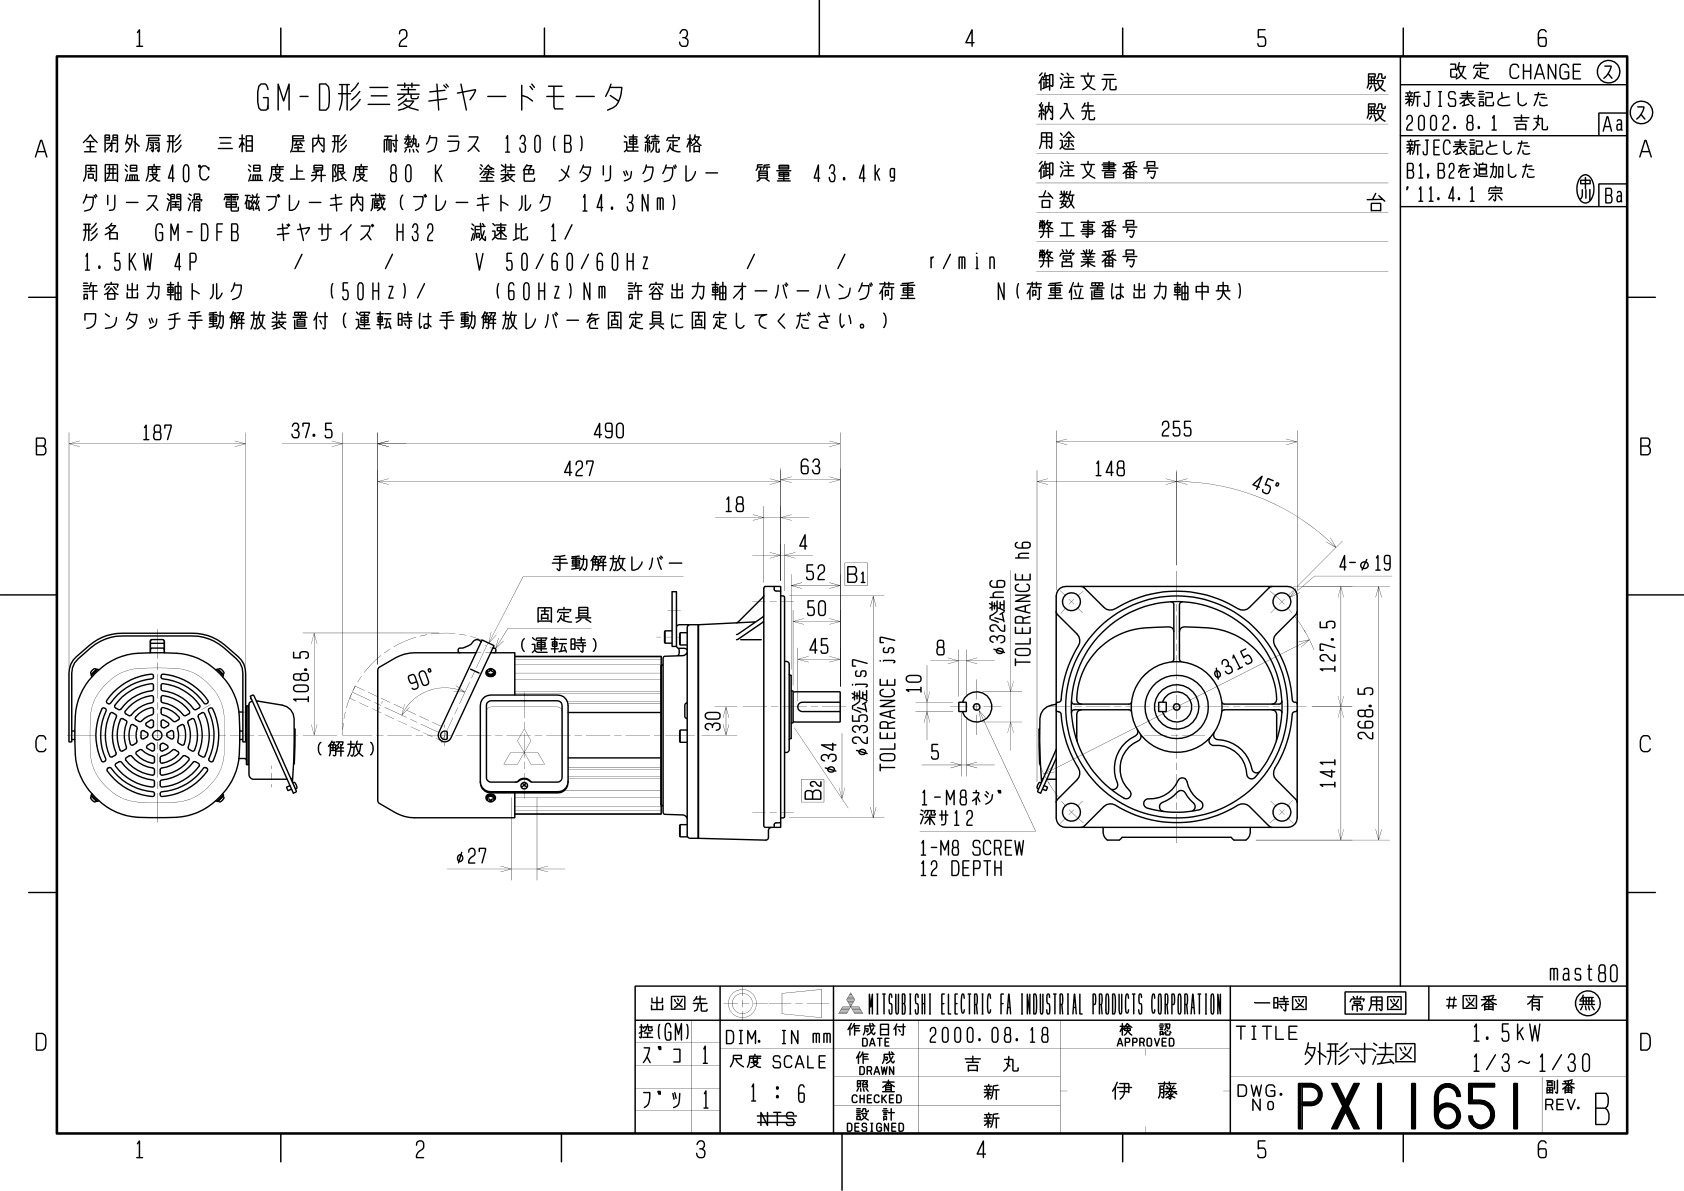GM_D_手動解放ブレーキ＿三相_フランジ: (55, 369, 1395, 949)
